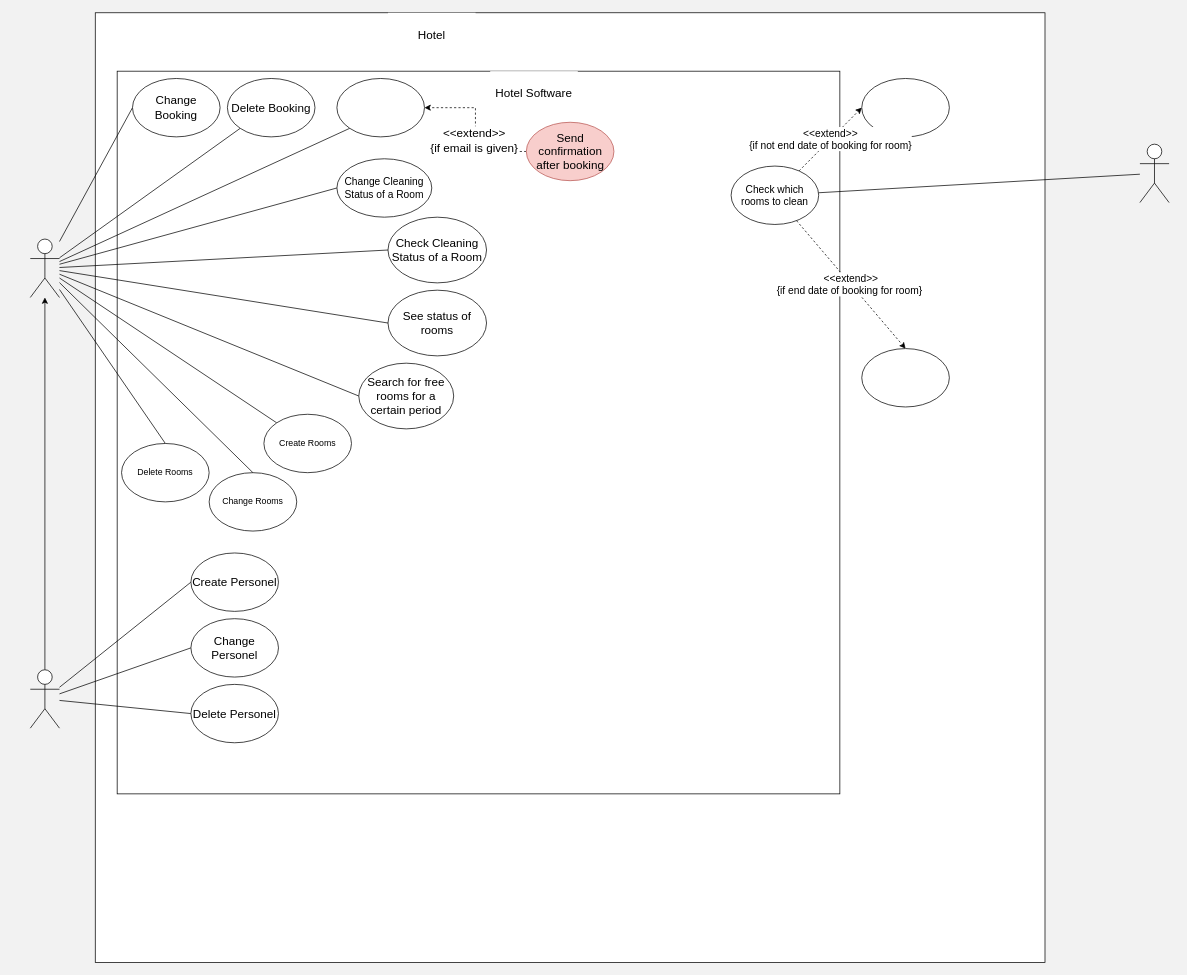
Some shapes in this 1187 by 975 pixel diagram are drawn without their labels. Here are the shapes that lost their labels. From the top down, the box of each, then its label:
(336, 78, 424, 137): Create Booking
(861, 78, 949, 137): Daily room cleaning
(1139, 143, 1169, 203): Cleaner
(30, 238, 59, 297): Receptionist
(861, 348, 949, 407): Final cleaning
(30, 669, 59, 728): Admin
